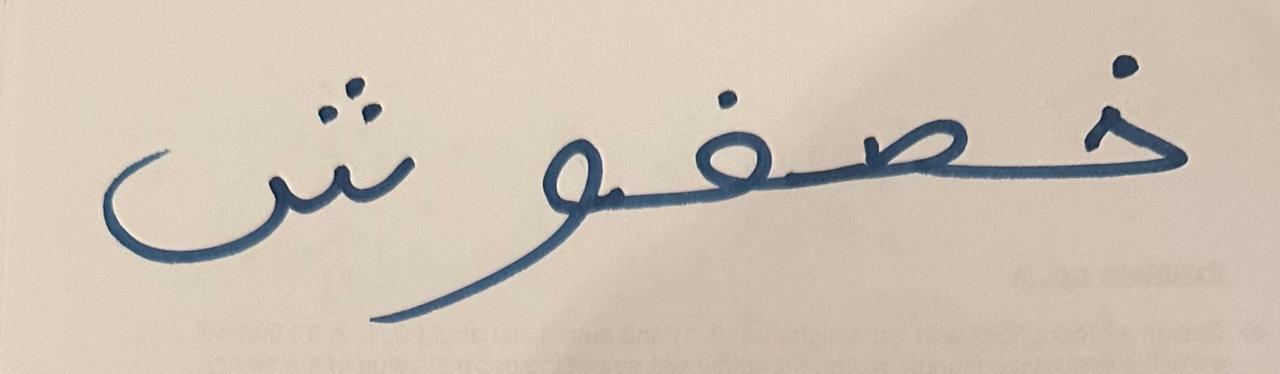feh: (634, 6, 794, 247)
lam: (1009, 14, 1217, 238)
seen: (799, 20, 1005, 240)
tah: (51, 9, 432, 282)
yeh: (436, 71, 630, 319)
